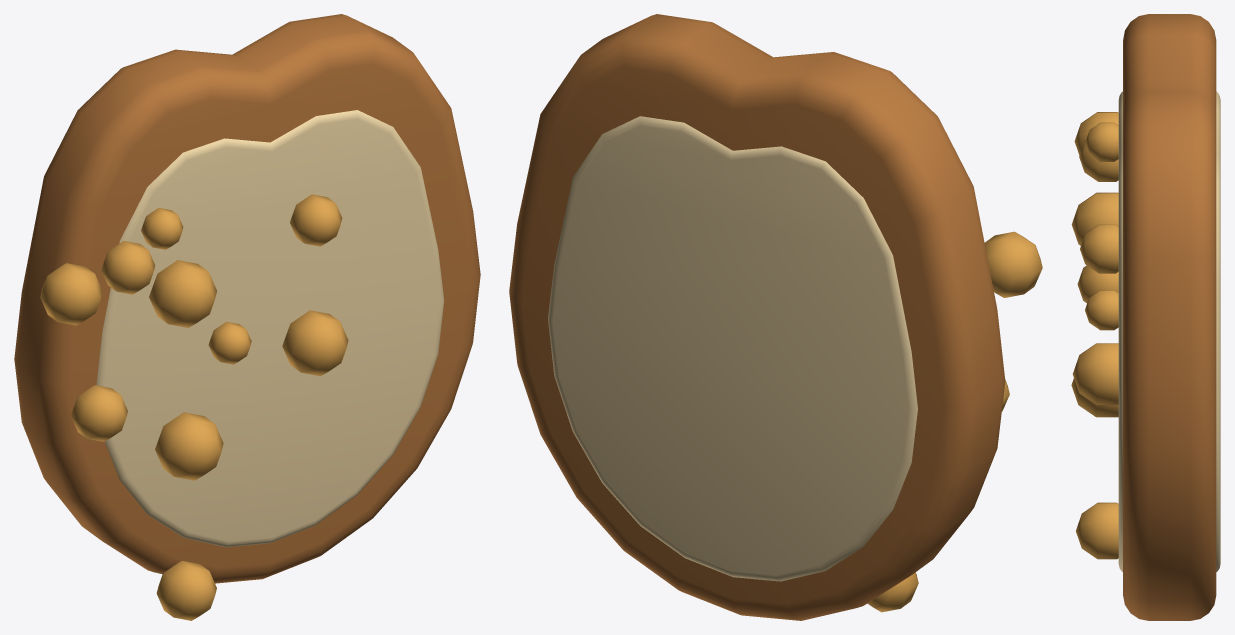
Rendered from toast.glb.
3 views of the same model, side by side, from view 1: azimuth 30°, elevation 25°; view 2: azimuth 150°, elevation 25°; view 3: azimuth 270°, elevation 25° (orthographic). The views are drawn at different scales.
Parts seen in each view (by area): view 1: SliceFace, Slice, Crumb7, Crumb5, Crumb8, Crumb9, Crumb6, Crumb1, Crumb2, Crumb4, Crumb3, Crumb0; view 2: SliceFace, Slice, Crumb9, Crumb6; view 3: Slice, SliceFace, Crumb8, Crumb6, Crumb4, Crumb5, Crumb3, Crumb0, Crumb1, Crumb2, Crumb9, Crumb7.
Part boxes in pixels (x1,y1,x2,y2): SliceFace: (96, 110, 444, 547); Slice: (14, 14, 480, 583); Crumb7: (155, 412, 223, 480); Crumb5: (149, 260, 216, 327); Crumb8: (282, 310, 348, 376); Crumb9: (40, 263, 102, 325); Crumb6: (156, 560, 216, 620); Crumb1: (71, 385, 127, 441); Crumb2: (101, 241, 155, 294); Crumb4: (290, 194, 342, 246); Crumb3: (208, 322, 251, 364); Crumb0: (141, 208, 183, 249); SliceFace: (548, 116, 917, 581); Slice: (509, 14, 1005, 620); Crumb9: (984, 231, 1042, 297); Crumb6: (867, 572, 918, 612); Slice: (1123, 14, 1216, 620); SliceFace: (1118, 91, 1220, 571); Crumb8: (1072, 343, 1118, 404); Crumb6: (1076, 502, 1118, 559); Crumb4: (1080, 224, 1118, 273); Crumb5: (1071, 192, 1118, 245); Crumb3: (1085, 290, 1118, 330); Crumb0: (1085, 122, 1118, 161); Crumb1: (1077, 265, 1118, 302); Crumb2: (1079, 140, 1118, 181); Crumb9: (1074, 112, 1118, 155); Crumb7: (1071, 378, 1118, 417).
Bounding box in the file's own units: 0.103 × 0.1148 × 0.0287.
